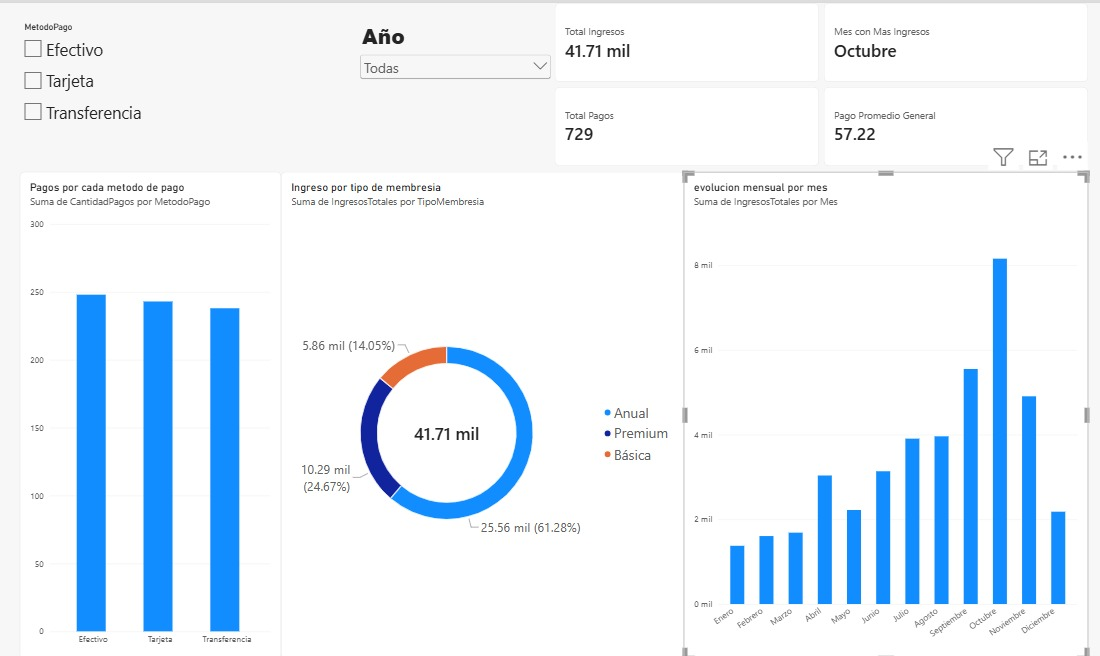

This screenshot's page, from the dashboard's own definition file:
{"tool":"powerbi","page":{"name":"Página 1","canvas":[1920,1080],"ordinal":0},"visuals":[{"type":"cardVisual","fields":{"Data":["IngresosMensuales.Total Ingresos","IngresosMensuales.Mes con Mas Ingresos","IngresosMensuales.Total Pagos","IngresosMensuales.Pago Promedio General"]},"box":[961.2,0,878.9,269.6],"z":0},{"type":"columnChart","title":"Pagos por cada metodo de pago","fields":{"Category":["IngresosMensuales.MetodoPago"],"Y":["Sum(IngresosMensuales.CantidadPagos)"]},"box":[80,278,430,802],"z":1},{"type":"donutChart","title":"Ingreso por tipo de membresia","fields":{"Category":["IngresosMensuales.TipoMembresia"],"Y":["Sum(IngresosMensuales.IngresosTotales)"]},"box":[510,278,664,802],"z":2},{"type":"columnChart","title":"evolucion mensual por mes","fields":{"Category":["IngresosMensuales.Mes"],"Y":["Sum(IngresosMensuales.IngresosTotales)"]},"box":[1174,278,666,802],"z":3},{"type":"slicer","fields":{"Values":["IngresosMensuales.Anio"]},"box":[636,30.9,323.2,135.8],"z":4},{"type":"slicer","fields":{"Values":["IngresosMensuales.MetodoPago"]},"box":[80.3,30.9,541.3,269.6],"z":5}]}

Visuals, with their boxes on the page's 1920x1080 design canvas (x1, y1, x2, y2). These are canvas units, not pixel positions in the 1100x656 screenshot, which may show the page scaled, cropped or inside an application window:
cardVisual - IngresosMensuales.Total Ingresos x IngresosMensuales.Mes con Mas Ingresos: left=961, top=0, right=1840, bottom=270
"Pagos por cada metodo de pago" columnChart: left=80, top=278, right=510, bottom=1080
"Ingreso por tipo de membresia" donutChart: left=510, top=278, right=1174, bottom=1080
"evolucion mensual por mes" columnChart: left=1174, top=278, right=1840, bottom=1080
slicer - IngresosMensuales.Anio: left=636, top=31, right=959, bottom=167
slicer - IngresosMensuales.MetodoPago: left=80, top=31, right=622, bottom=300
